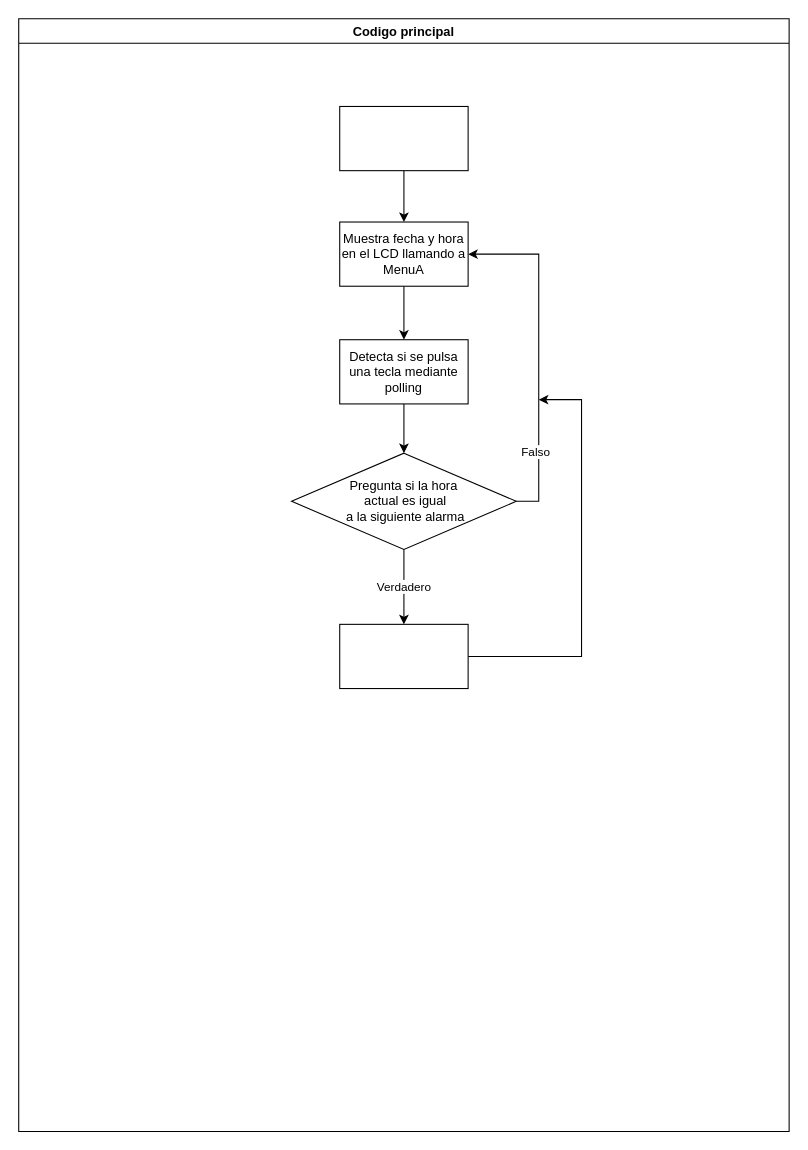
Image size: 808x1150. Some labels were removed from this diagram. The box of each missing label's shape, as (x1, y1, x2, y2) in pixels:
Activa la alarma: (339, 623, 468, 689)
Se declaran las variables a utilizar: (339, 105, 468, 171)
